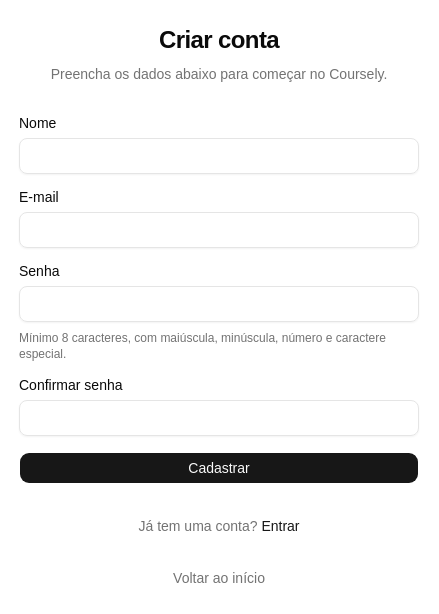
Test: RegisterPage › shows error when passwords do not match
Type "Jane" into the field labelled "Nome" at (219, 156), box [19,138,419,174]
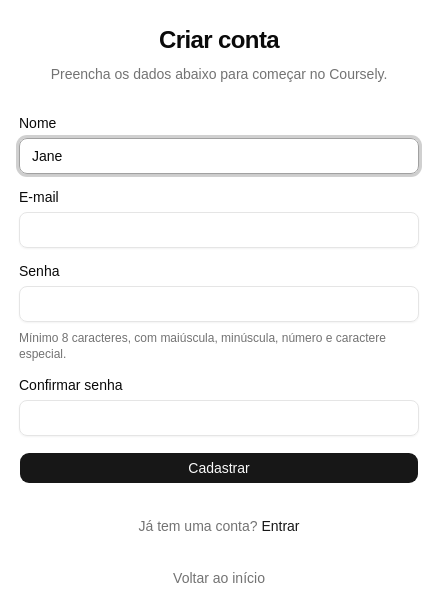
Type "jane@example.com" into the field labelled "E-mail" at (219, 230), box [19,212,419,248]
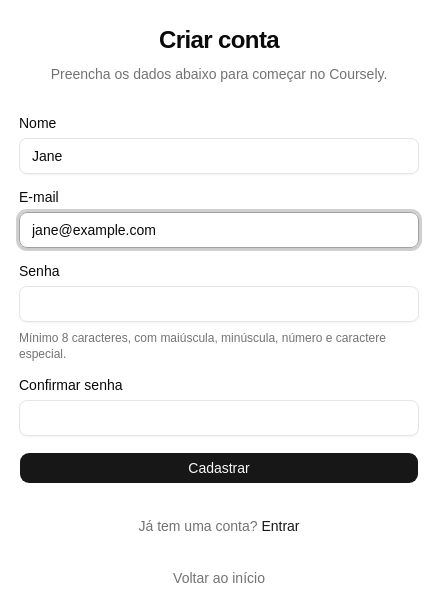
Type "Strong1!x" into the password field labelled "Senha" at (219, 304), box [19,286,419,322]
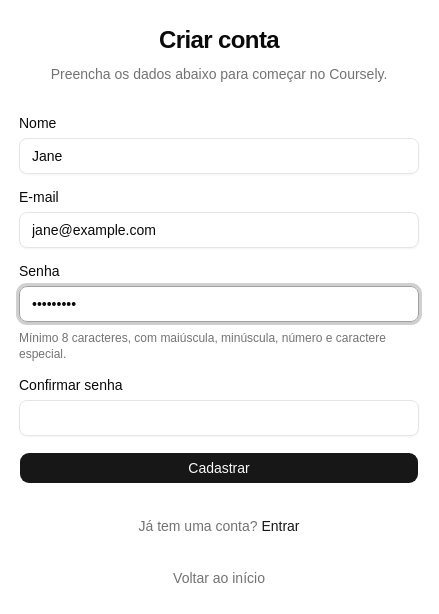
Type "Strong1!y" into the password field labelled "Confirmar senha" at (219, 418), box [19,400,419,436]
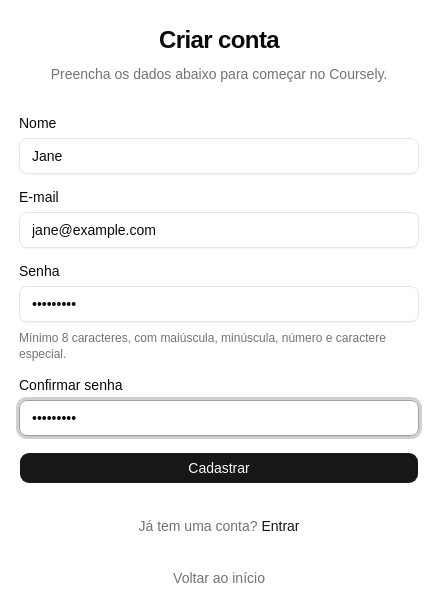
Click the button "Cadastrar" at (219, 468), box [19,452,419,484]
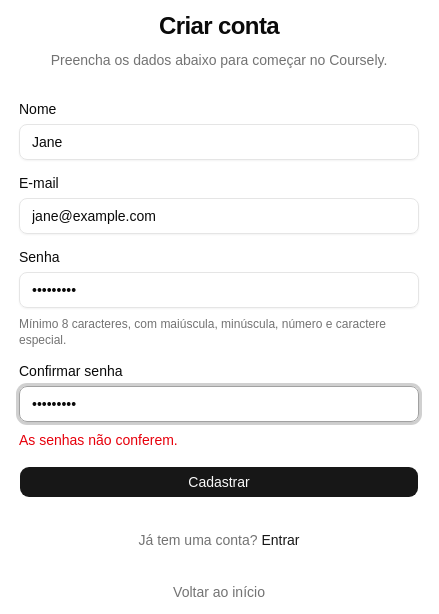
Now the text "As senhas não conferem." is shown, box [19,432,178,448]
